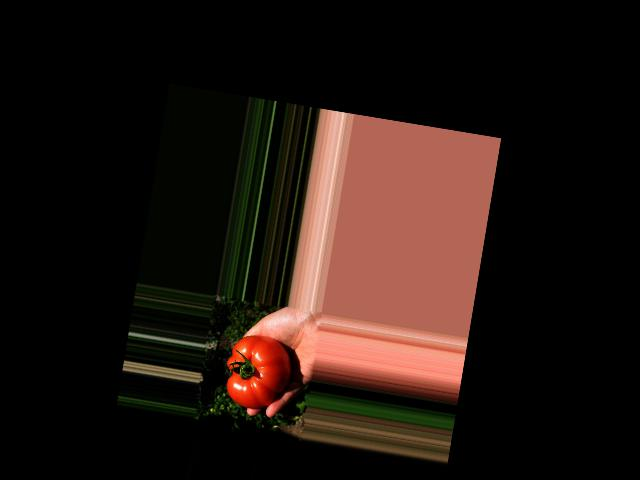tomato: (220, 332, 295, 414)
